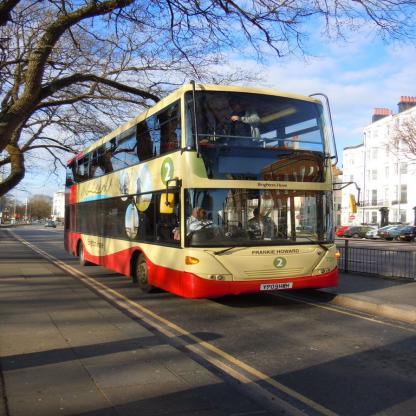Car: (375, 225, 416, 241), (365, 224, 404, 240), (343, 225, 377, 240), (397, 224, 416, 244), (338, 225, 354, 239), (44, 222, 56, 227)
